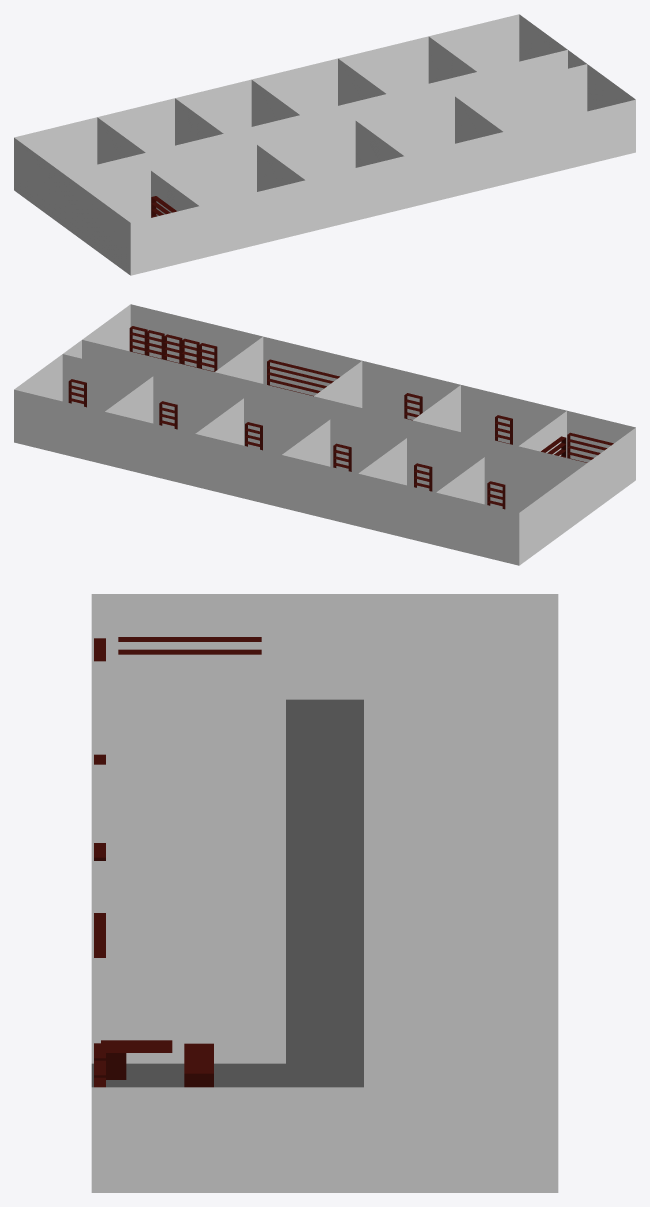
Rendered from Office Layout 1.glb.
The picture shows the model from 3 angles, top to bottom: view 1: azimuth 30°, elevation 25°; view 2: azimuth 150°, elevation 25°; view 3: azimuth 270°, elevation 25°; orthographic projection. The views are drawn at different scales.
Visible parts, largest first — view 1: Wall.001, Hallway Wall.001, Wall, Hallway Wall, Wall.002, Wall.003, Wall.010, Wall.008, Wall.006, Wall.004, Wall.005, Wall.007 (+3 smaller); view 2: Wall, Hallway Wall, Wall.001, Hallway Wall.001, Wall.002, Wall.003, Wall.009, Wall.008, Wall.006, Wall.010, Wall.004, Wall.005 (+5 smaller); view 3: Wall.003, Wall.002, Floot, Wall.012, Wall.009, Wall.011, Wall.010, Wall.008, Wall.007, Wall.006, Wall.004, Wall.005 (+3 smaller).
Part boxes in pixels (bbox=[...]): Wall.001: bbox=[130, 99, 635, 275]; Hallway Wall.001: bbox=[82, 64, 587, 222]; Wall: bbox=[14, 14, 519, 172]; Hallway Wall: bbox=[63, 50, 567, 187]; Wall.002: bbox=[14, 138, 130, 275]; Wall.003: bbox=[519, 14, 635, 111]; Wall.010: bbox=[355, 121, 403, 167]; Wall.008: bbox=[428, 37, 476, 83]; Wall.006: bbox=[251, 80, 299, 126]; Wall.004: bbox=[97, 117, 145, 164]; Wall.005: bbox=[175, 98, 223, 145]; Wall.007: bbox=[338, 58, 385, 105]; Wall: bbox=[14, 389, 519, 565]; Hallway Wall: bbox=[62, 354, 567, 512]; Wall.001: bbox=[130, 304, 635, 462]; Hallway Wall.001: bbox=[82, 340, 586, 477]; Wall.002: bbox=[519, 428, 635, 565]; Wall.003: bbox=[14, 304, 130, 401]; Wall.009: bbox=[215, 337, 263, 383]; Wall.008: bbox=[105, 376, 153, 423]; Wall.006: bbox=[282, 419, 330, 466]; Wall.010: bbox=[314, 361, 362, 407]; Wall.004: bbox=[436, 457, 484, 504]; Wall.005: bbox=[358, 438, 406, 485]; Wall.003: bbox=[91, 1087, 558, 1192]; Wall.002: bbox=[91, 594, 558, 699]; Floot: bbox=[91, 699, 363, 1087]; Wall.012: bbox=[91, 661, 285, 764]; Wall.009: bbox=[91, 958, 285, 1063]; Wall.011: bbox=[91, 764, 285, 860]; Wall.010: bbox=[91, 861, 285, 957]; Wall.008: bbox=[364, 998, 558, 1087]; Wall.007: bbox=[364, 910, 558, 998]; Wall.006: bbox=[364, 826, 558, 910]; Wall.004: bbox=[364, 675, 558, 751]; Wall.005: bbox=[364, 751, 558, 825].
Bounding box in the file's own units: 30 × 3 × 12.
